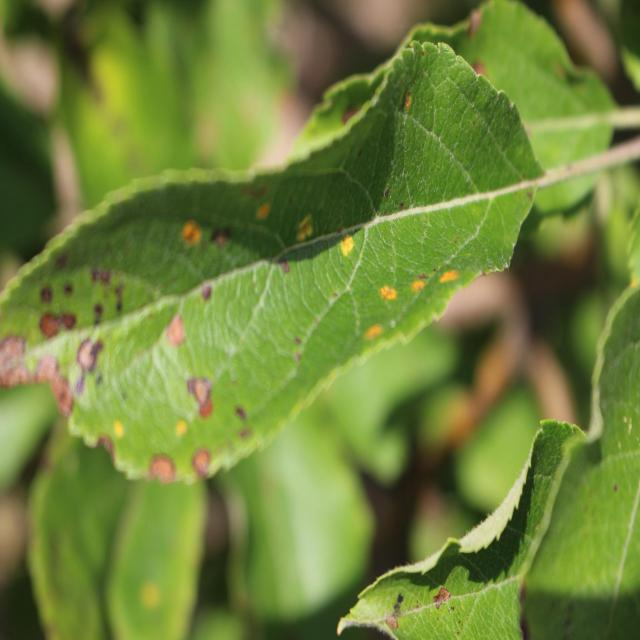Black Rot: (177, 371, 225, 420), (183, 443, 223, 498), (33, 305, 82, 337), (146, 446, 174, 500), (160, 318, 192, 351), (37, 274, 56, 308), (58, 280, 78, 302)
Rust: (330, 221, 358, 268), (295, 209, 320, 257), (375, 277, 404, 313), (105, 412, 134, 447), (361, 316, 386, 354), (180, 216, 203, 256), (252, 192, 277, 228), (407, 276, 434, 307), (433, 266, 464, 292), (162, 416, 194, 439)
